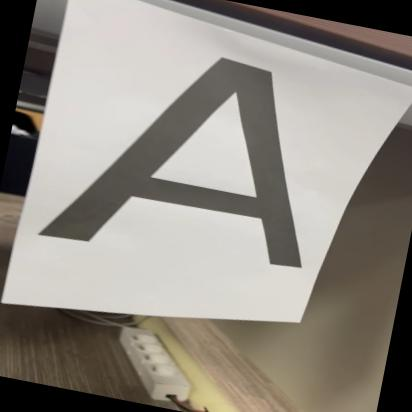seat: (26, 17, 351, 304)
